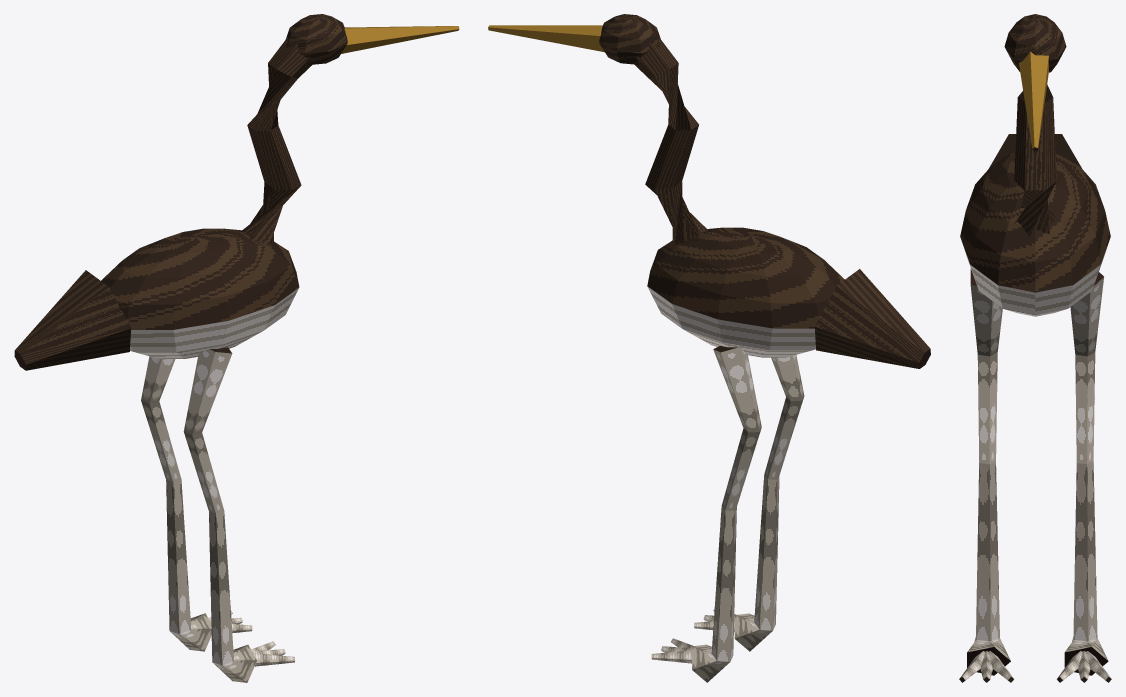
Rendered from FAU-02_Zancuda_de_salina.gltf.
3 views of the same model, side by side, from view 1: azimuth 30°, elevation 25°; view 2: azimuth 150°, elevation 25°; view 3: azimuth 270°, elevation 25° (orthographic). The views are drawn at different scales.
Parts seen in each view (by area): view 1: FAU-02_Zancuda_de_salina; view 2: FAU-02_Zancuda_de_salina; view 3: FAU-02_Zancuda_de_salina.
Part boxes in pixels (x1,y1,x2,y2): FAU-02_Zancuda_de_salina: [14, 14, 459, 682]; FAU-02_Zancuda_de_salina: [488, 14, 930, 682]; FAU-02_Zancuda_de_salina: [959, 14, 1111, 682].
Size of what is drawn, in the model's own units: 1.31 by 1.78 by 0.3445.
Materials: 1 (1 with a texture image).
